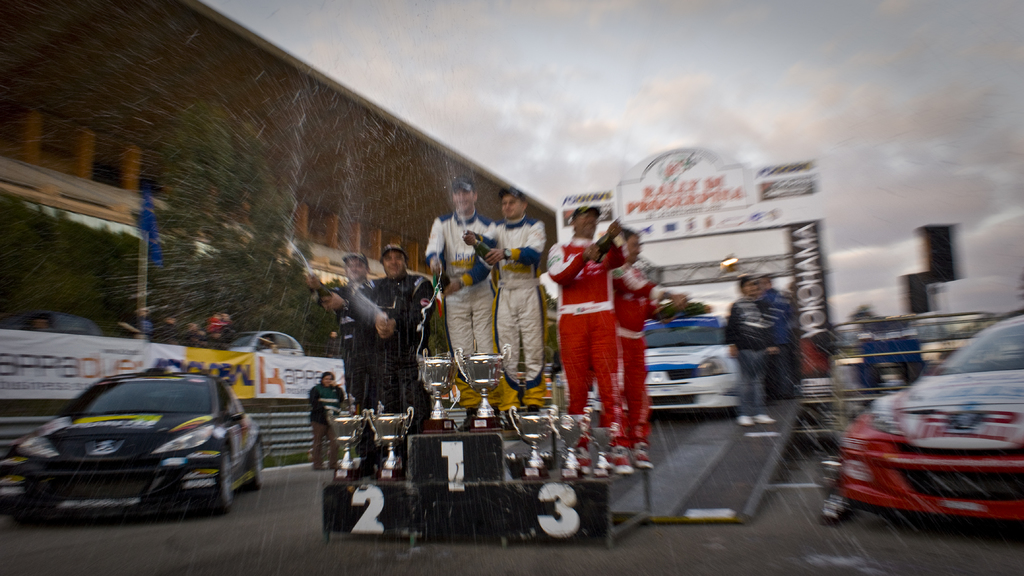Car: (840, 314, 1023, 534), (9, 364, 261, 511), (647, 315, 743, 416)
